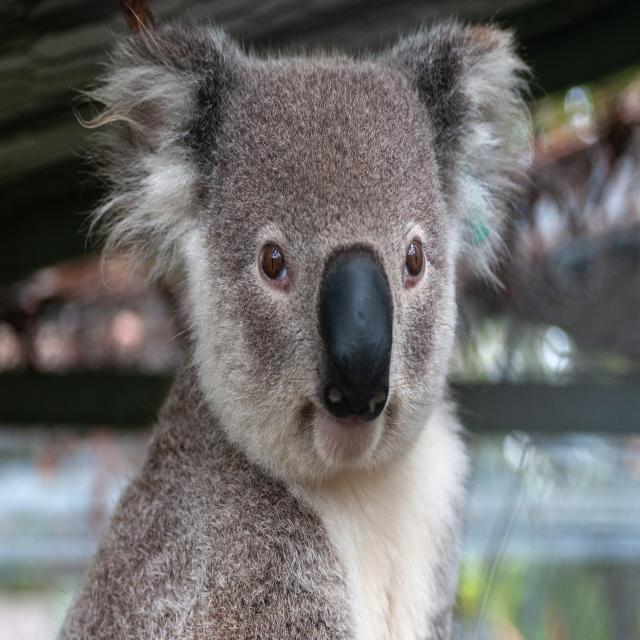Koala: (81, 22, 533, 640)
